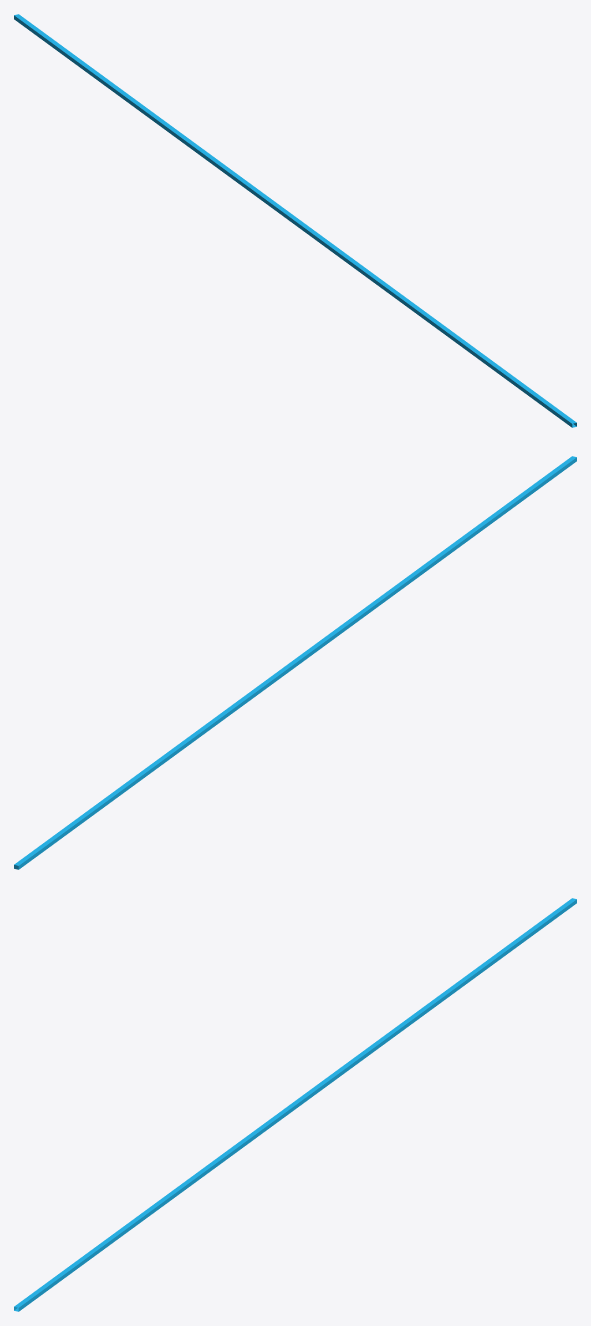
Rendered from wire.glb.
The picture shows the model from 3 angles, top to bottom: view 1: azimuth 30°, elevation 25°; view 2: azimuth 150°, elevation 25°; view 3: azimuth 330°, elevation 25°; orthographic projection.
Parts seen in each view (by area): view 1: Cube; view 2: Cube; view 3: Cube.
Part boxes in pixels (left/top/right/bottom): Cube: left=14, top=14, right=576, bottom=427; Cube: left=14, top=456, right=576, bottom=869; Cube: left=14, top=898, right=576, bottom=1311.
Bounding box in the file's own units: 0.5015 × 0.4012 × 102.
Materials: 1 (1 with a texture image).
